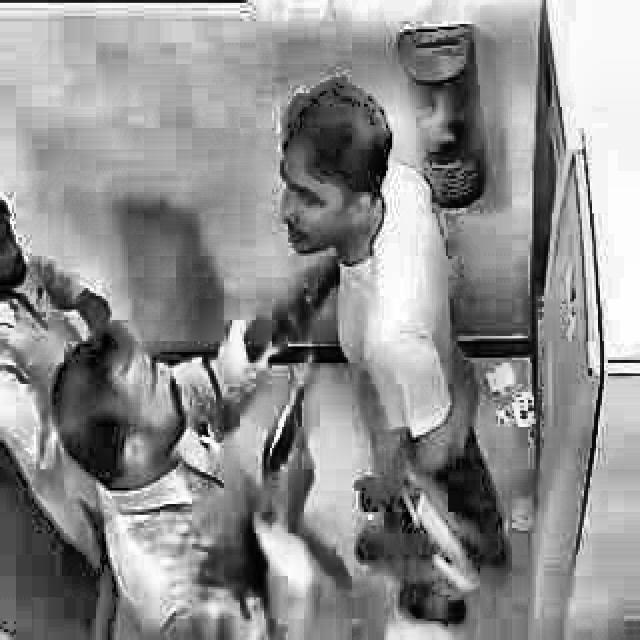robbery: (45, 240, 392, 637)
